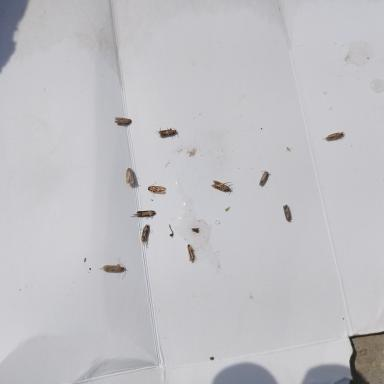pbw: (211, 180, 234, 195), (138, 223, 152, 246), (125, 167, 141, 186), (148, 181, 166, 197), (324, 132, 345, 142), (154, 127, 177, 136), (130, 210, 155, 218), (114, 117, 132, 128), (259, 170, 271, 186), (282, 204, 292, 222), (187, 244, 196, 262)
